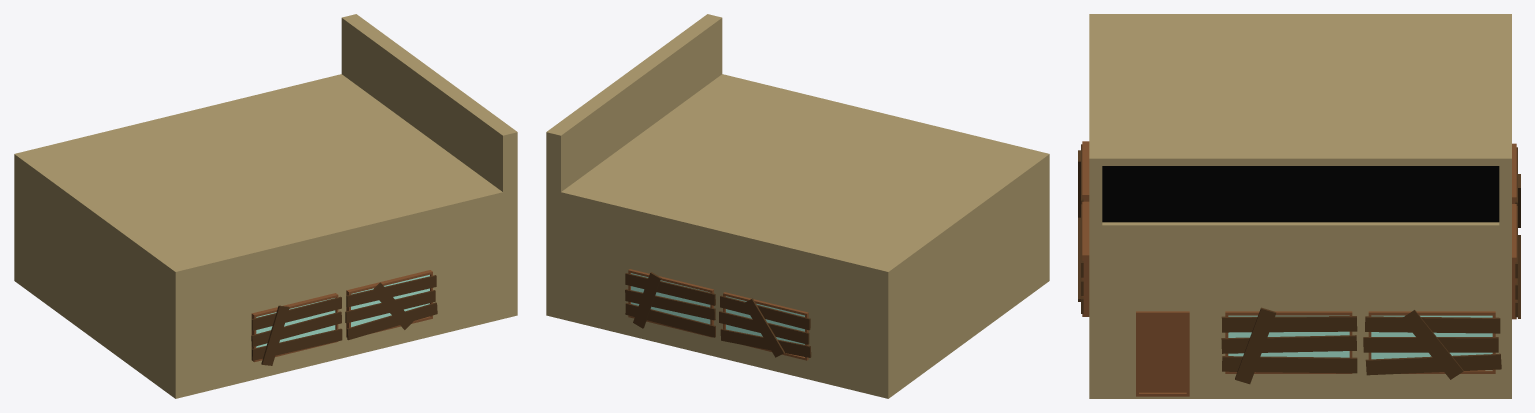
File: flower_shop.fbx
3 views of the same model, side by side, from view 1: azimuth 30°, elevation 25°; view 2: azimuth 150°, elevation 25°; view 3: azimuth 270°, elevation 25° (orthographic). The views are drawn at different scales.
Parts seen in each view (by area): view 1: Cube.183; view 2: Cube.183; view 3: Cube.183.
Boxes of the visible parts, left/top/right/bottom form: Cube.183: left=14, top=14, right=517, bottom=398; Cube.183: left=546, top=14, right=1049, bottom=398; Cube.183: left=1078, top=14, right=1520, bottom=398.
Bounding box in the file's own units: 3422 × 1726 × 2884.
